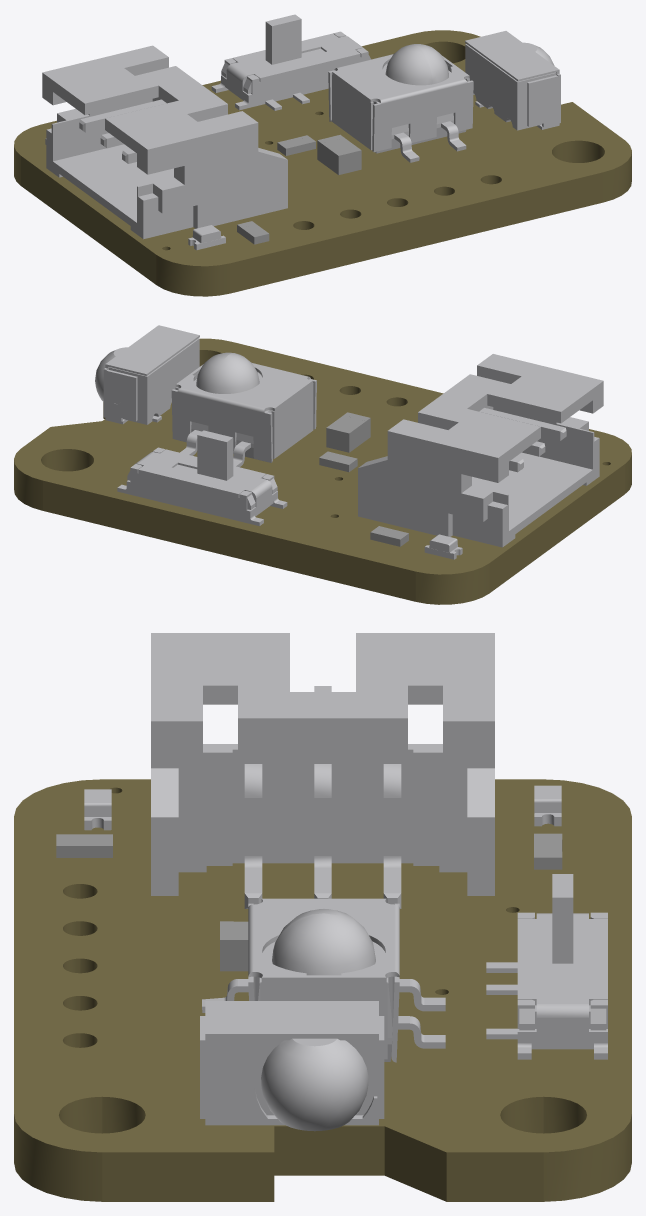
The model's file is ada-5939.glb.
The picture shows the model from 3 angles, top to bottom: view 1: azimuth 30°, elevation 25°; view 2: azimuth 150°, elevation 25°; view 3: azimuth 270°, elevation 25°; orthographic projection. The views are drawn at different scales.
Visible parts, largest first — view 1: 0.5833333333333334_0.5833333333333334_0.5833333333333334_0.8, 0.16666666666666666_0.16666666666666666_0.08333333333333333_, 0.3333333333333333_0.3333333333333333_0.3333333333333333_0; view 2: 0.5833333333333334_0.5833333333333334_0.5833333333333334_0.8, 0.16666666666666666_0.16666666666666666_0.08333333333333333_, 0.3333333333333333_0.3333333333333333_0.3333333333333333_0; view 3: 0.16666666666666666_0.16666666666666666_0.08333333333333333_, 0.5833333333333334_0.5833333333333334_0.5833333333333334_0.8, 0.3333333333333333_0.3333333333333333_0.3333333333333333_0.
Part boxes in pixels (x1,y1,x2,y2): 0.5833333333333334_0.5833333333333334_0.5833333333333334_0.8: [42, 14, 560, 250]; 0.16666666666666666_0.16666666666666666_0.08333333333333333_: [14, 30, 631, 296]; 0.3333333333333333_0.3333333333333333_0.3333333333333333_0: [237, 134, 361, 244]; 0.5833333333333334_0.5833333333333334_0.5833333333333334_0.8: [95, 325, 603, 559]; 0.16666666666666666_0.16666666666666666_0.08333333333333333_: [14, 338, 631, 604]; 0.3333333333333333_0.3333333333333333_0.3333333333333333_0: [319, 412, 408, 546]; 0.16666666666666666_0.16666666666666666_0.08333333333333333_: [14, 779, 631, 1201]; 0.5833333333333334_0.5833333333333334_0.5833333333333334_0.8: [84, 633, 607, 1131]; 0.3333333333333333_0.3333333333333333_0.3333333333333333_0: [56, 833, 562, 971].
Size of the model in its own units: 2.54 by 0.6369 by 1.78.
